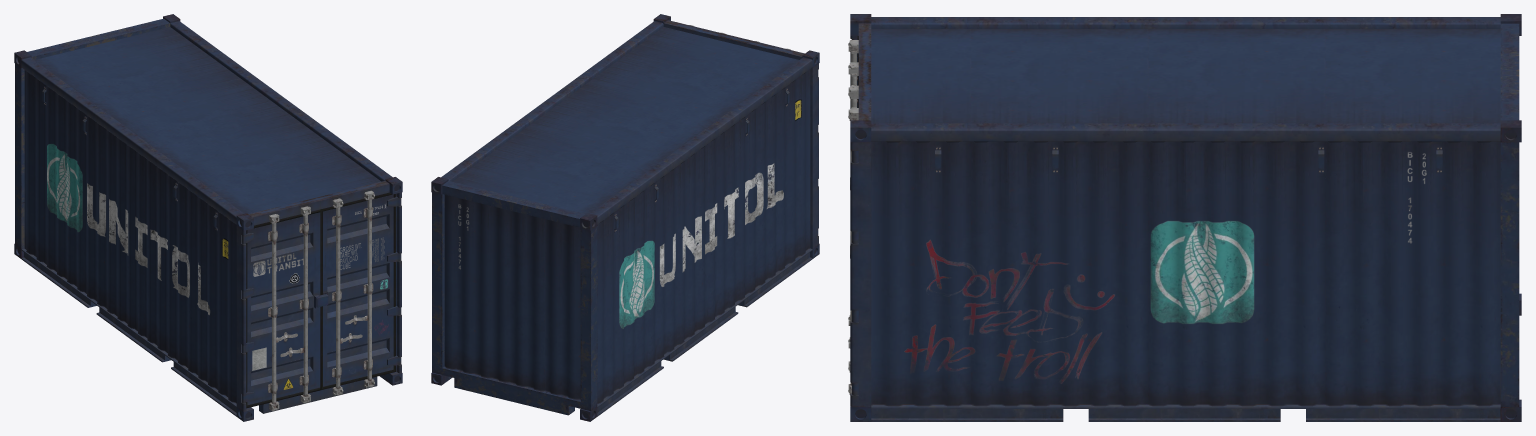
Rendered from conteiner.glb.
3 views of the same model, side by side, from view 1: azimuth 30°, elevation 25°; view 2: azimuth 150°, elevation 25°; view 3: azimuth 270°, elevation 25° (orthographic). The views are drawn at different scales.
Parts seen in each view (by area): view 1: Container; view 2: Container; view 3: Container.
Part boxes in pixels (x1,y1,x2,y2): Container: [14, 14, 402, 421]; Container: [431, 14, 819, 421]; Container: [848, 14, 1521, 421].
Size of the model in its own units: 2.4 by 2.9 by 6.01.
Materials: 2 (2 with a texture image).
